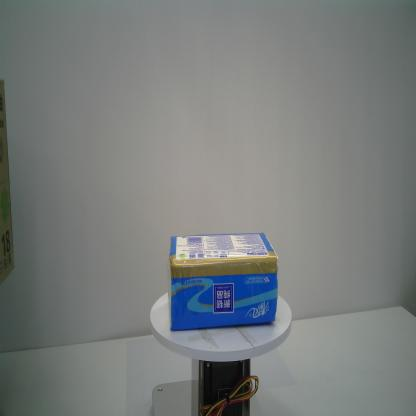Tissue: (168, 231, 278, 331)
